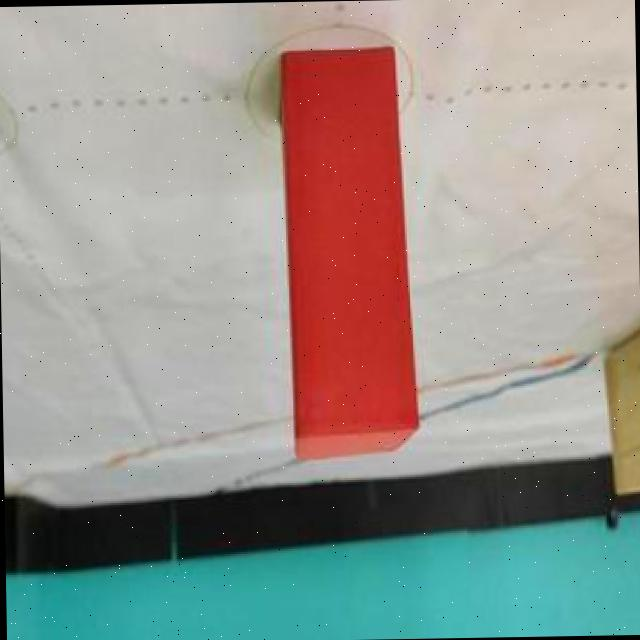redbox: (276, 45, 419, 460)
